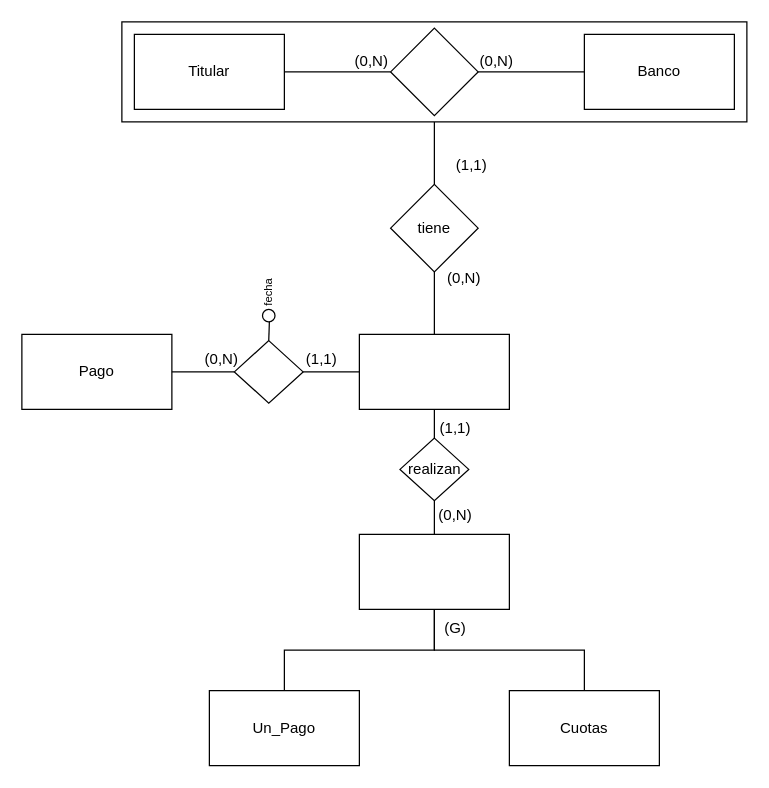
This 769x788 diagram has some shape labels left out. The centre of each missing label's shape, as x and y in pixels:
Compra: point 433,571
es_cliente: point 433,71
registra: point 268,371
Tarjeta: point 433,371
